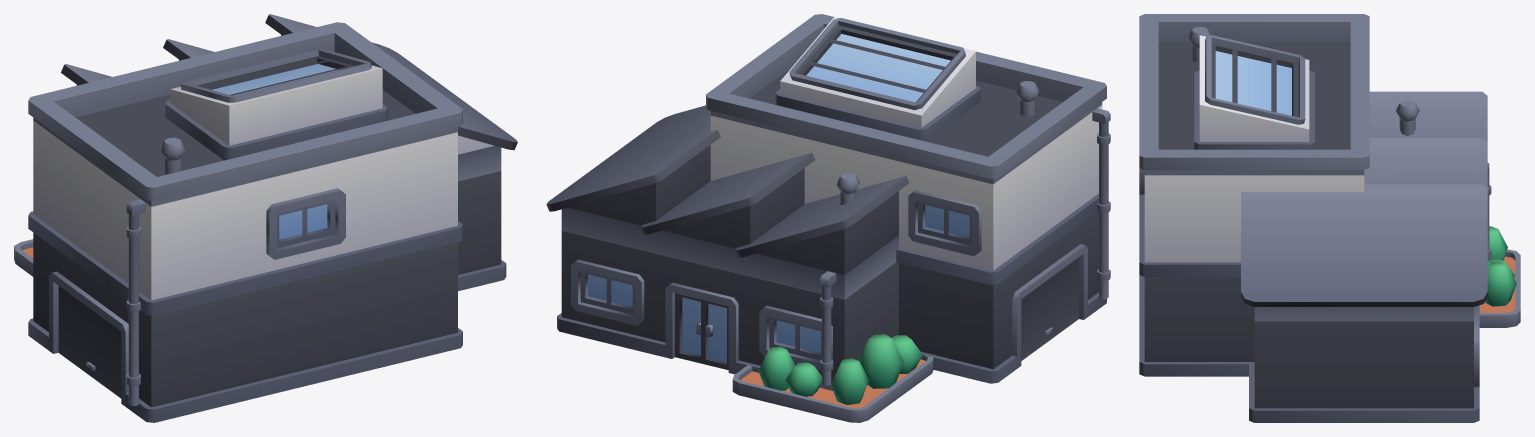
Rendered from kenney-city-industrial-building-t.glb.
The picture shows the model from 3 angles, left to right: view 1: azimuth 30°, elevation 25°; view 2: azimuth 150°, elevation 25°; view 3: azimuth 270°, elevation 25°; orthographic projection. The views are drawn at different scales.
Parts seen in each view (by area): view 1: building-t; view 2: building-t; view 3: building-t.
Boxes of the visible parts, <box> form: building-t: <box>14,14,517,422</box>; building-t: <box>546,14,1110,422</box>; building-t: <box>1139,14,1520,422</box>.
Bounding box in the file's own units: 1.72 × 1.01 × 1.39.
Materials: 1 (1 with a texture image).
